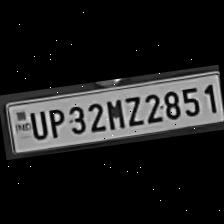1: (198, 80, 222, 114)
2: (83, 98, 106, 133), (139, 89, 162, 124)
3: (63, 101, 86, 136)
5: (176, 82, 202, 118)
8: (160, 86, 182, 120)
M: (100, 94, 125, 130)
P: (43, 104, 66, 138)
U: (23, 106, 47, 140)
Z: (120, 90, 144, 128)
